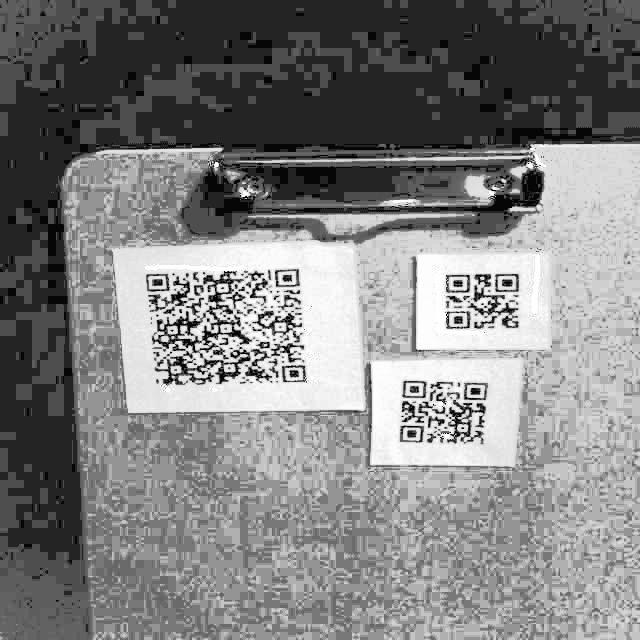qr_code: (133, 250, 322, 407), (386, 364, 506, 456), (434, 261, 534, 338)
